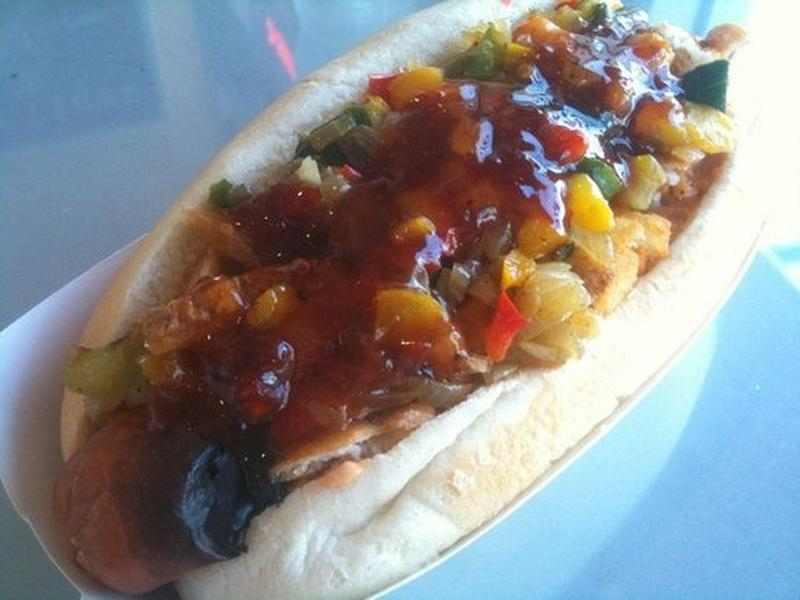hot_dog: (70, 1, 778, 585)
